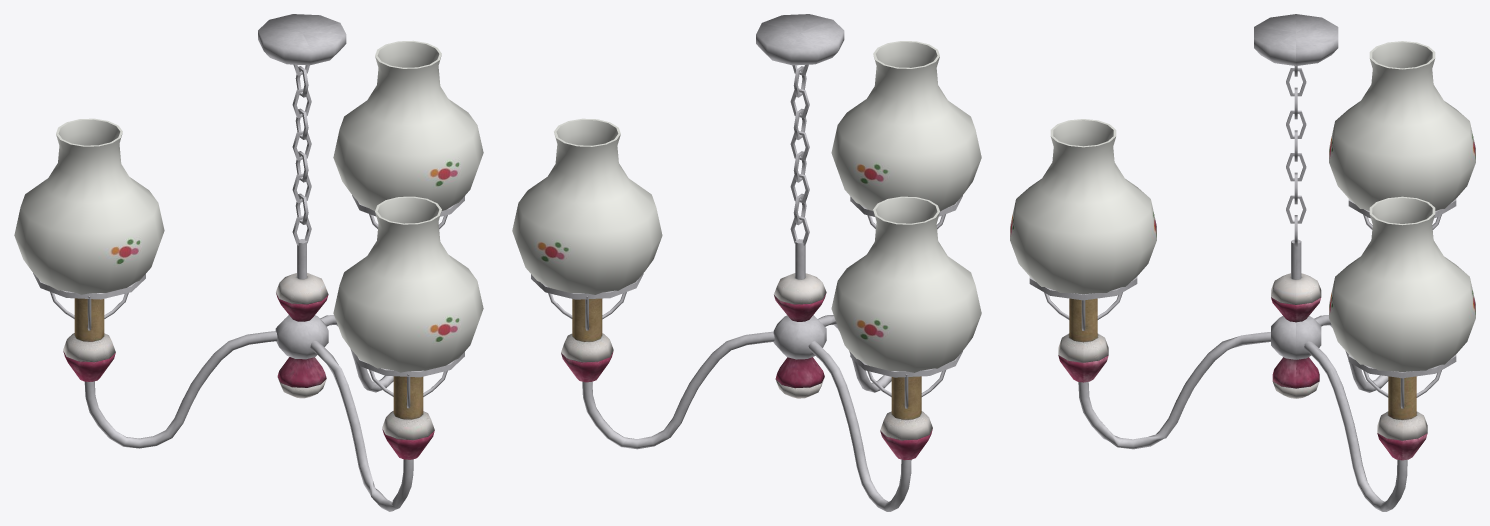
File: lamp_nickel_3_lod1_web.glb
The picture shows the model from 3 angles, left to right: view 1: azimuth 30°, elevation 25°; view 2: azimuth 150°, elevation 25°; view 3: azimuth 270°, elevation 25°; orthographic projection.
Parts seen in each view (by area): view 1: Glass_Shade_3, Glass_Shade_2, Glass_Shade_1, Chrome_Nickel, LampNickel3_Body; view 2: Glass_Shade_2, Glass_Shade_1, Glass_Shade_3, Chrome_Nickel, LampNickel3_Body; view 3: Glass_Shade_3, Glass_Shade_1, Glass_Shade_2, Chrome_Nickel, LampNickel3_Body.
Part boxes in pixels (x1,y1,x2,y2): Glass_Shade_3: (333,196,483,372); Glass_Shade_2: (14,118,164,294); Glass_Shade_1: (333,40,483,210); Chrome_Nickel: (33,14,464,511); LampNickel3_Body: (63,273,434,459); Glass_Shade_2: (831,196,981,372); Glass_Shade_1: (512,118,662,294); Glass_Shade_3: (831,41,981,211); Chrome_Nickel: (531,14,962,511); LampNickel3_Body: (561,273,932,460); Glass_Shade_3: (1010,119,1156,294); Glass_Shade_1: (1329,196,1475,371); Glass_Shade_2: (1329,41,1475,210); Chrome_Nickel: (1029,14,1456,511); LampNickel3_Body: (1058,273,1427,460).
Bounding box in the file's own units: 0.5857 × 0.5182 × 0.5257.
3 materials, 3 textured.
